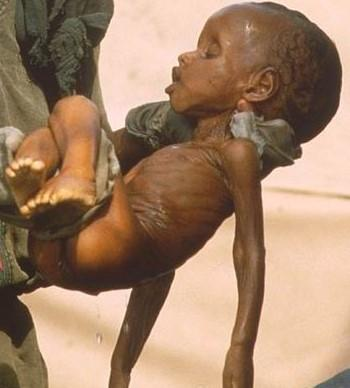Stunting: (157, 2, 345, 145)
